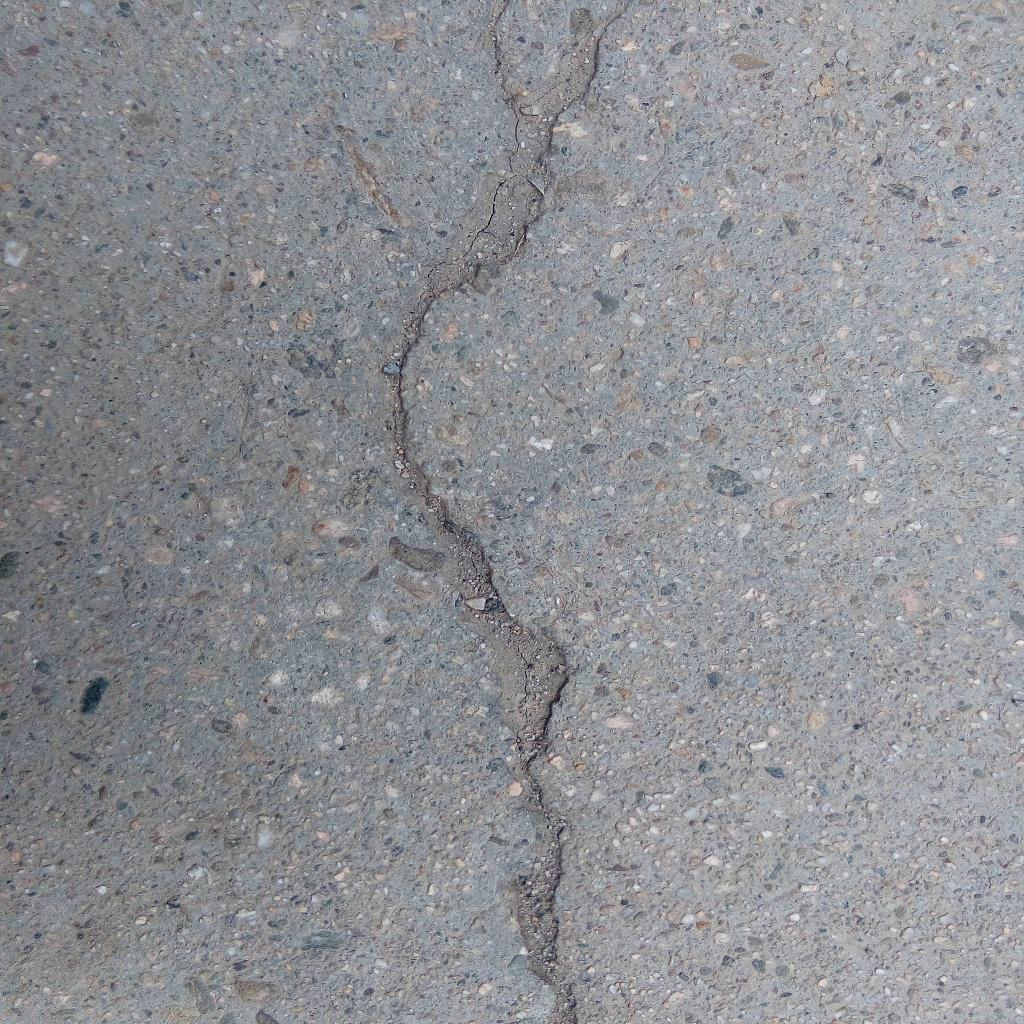Crack: (385, 1, 636, 1024)
